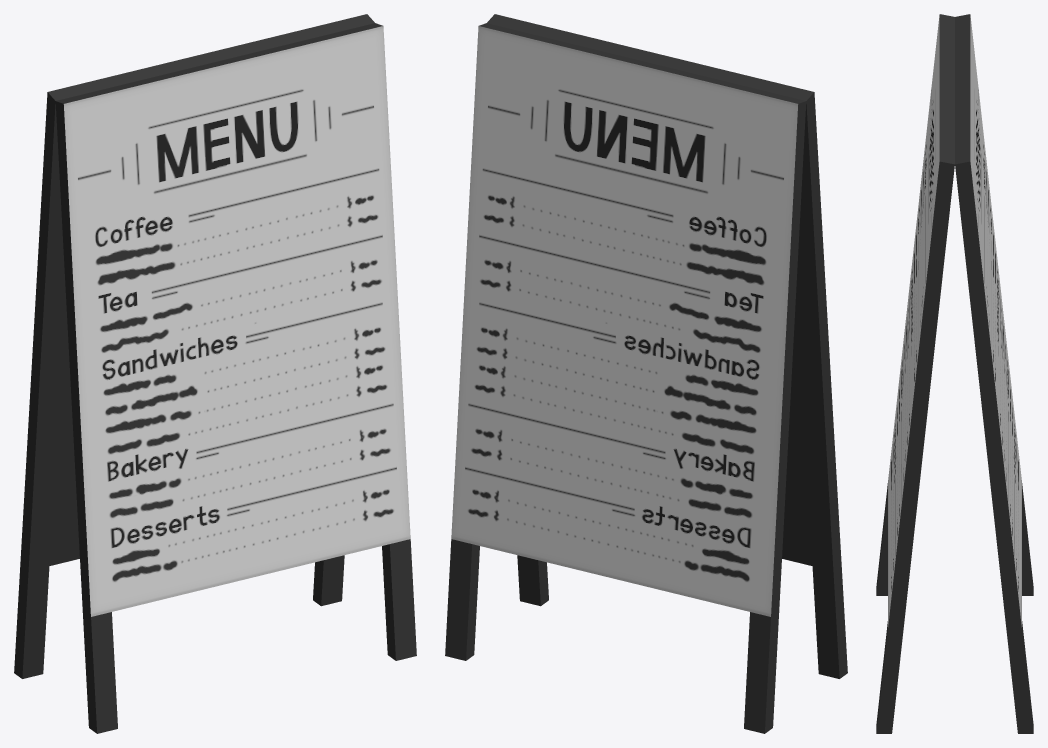
File: menu_outside.fbx
3 renders of one model, left to right at view 1: azimuth 30°, elevation 25°; view 2: azimuth 150°, elevation 25°; view 3: azimuth 270°, elevation 25°, orthographic. The views are drawn at different scales.
Visible parts, largest first — view 1: menu_outside; view 2: menu_outside; view 3: menu_outside.
Boxes of the visible parts, x1,y1,x2,y2 form: menu_outside: [14, 14, 416, 733]; menu_outside: [445, 14, 847, 733]; menu_outside: [876, 14, 1033, 733].
Bounding box in the file's own units: 47.9 × 86.7 × 21.57.
